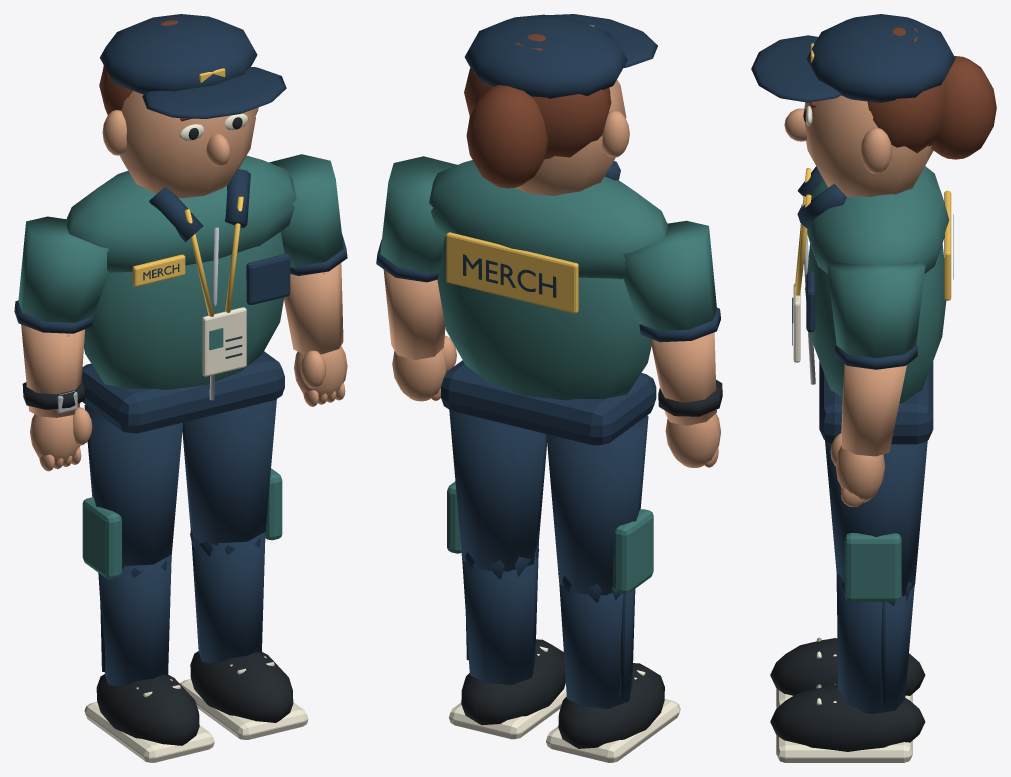
File: store-staff.glb
3 views of the same model, side by side, from view 1: azimuth 30°, elevation 25°; view 2: azimuth 150°, elevation 25°; view 3: azimuth 270°, elevation 25° (orthographic). The views are drawn at different scales.
Visible parts, largest first — view 1: Spine_uniform teal, Head_navy cotton, Spine_navy cotton, RightLeg_navy cotton, LeftLeg_navy cotton, Head_warm skin, RightKnee_navy cotton, LeftKnee_navy cotton, LeftArm_uniform teal, RightFoot_rubber and eyes, LeftFoot_rubber and eyes, RightArm_uniform teal (+14 smaller); view 2: Spine_uniform teal, RightLeg_navy cotton, LeftLeg_navy cotton, Head_navy cotton, Head_auburn hair, Spine_navy cotton, RightKnee_navy cotton, LeftArm_uniform teal, LeftKnee_navy cotton, Spine_ochre identity, RightArm_uniform teal, LeftFoot_rubber and eyes (+13 smaller); view 3: Spine_uniform teal, Head_navy cotton, Head_warm skin, RightArm_uniform teal, Head_auburn hair, RightKnee_navy cotton, RightLeg_navy cotton, RightFoot_rubber and eyes, Spine_navy cotton, RightElbow_warm skin, RightLeg_uniform teal, LeftFoot_rubber and eyes (+7 smaller).
Boxes of the visible parts, x1=… form: Spine_uniform teal: x1=65, y1=155, x2=296, y2=389; Head_navy cotton: x1=100, y1=14, x2=286, y2=118; Spine_navy cotton: x1=81, y1=169, x2=290, y2=433; RightLeg_navy cotton: x1=182, y1=399, x2=276, y2=547; LeftLeg_navy cotton: x1=84, y1=404, x2=182, y2=568; Head_warm skin: x1=102, y1=90, x2=258, y2=198; RightKnee_navy cotton: x1=190, y1=528, x2=265, y2=663; LeftKnee_navy cotton: x1=98, y1=554, x2=171, y2=686; LeftArm_uniform teal: x1=18, y1=216, x2=108, y2=322; RightFoot_rubber and eyes: x1=190, y1=651, x2=293, y2=722; LeftFoot_rubber and eyes: x1=96, y1=674, x2=199, y2=745; RightArm_uniform teal: x1=269, y1=154, x2=343, y2=268; Spine_uniform teal: x1=429, y1=160, x2=668, y2=400; RightLeg_navy cotton: x1=449, y1=410, x2=546, y2=571; LeftLeg_navy cotton: x1=546, y1=415, x2=648, y2=595; Head_navy cotton: x1=464, y1=14, x2=657, y2=98; Head_auburn hair: x1=464, y1=34, x2=611, y2=188; Spine_navy cotton: x1=441, y1=161, x2=656, y2=445; RightKnee_navy cotton: x1=462, y1=541, x2=539, y2=685; LeftArm_uniform teal: x1=623, y1=220, x2=716, y2=330; LeftKnee_navy cotton: x1=558, y1=573, x2=635, y2=708; Spine_ochre identity: x1=446, y1=222, x2=667, y2=313; RightArm_uniform teal: x1=380, y1=156, x2=457, y2=274; LeftFoot_rubber and eyes: x1=558, y1=663, x2=664, y2=748; Spine_uniform teal: x1=792, y1=166, x2=949, y2=403; Head_navy cotton: x1=751, y1=14, x2=955, y2=102; Head_warm skin: x1=784, y1=95, x2=933, y2=196; RightArm_uniform teal: x1=827, y1=261, x2=925, y2=357; Head_auburn hair: x1=810, y1=27, x2=996, y2=159; RightKnee_navy cotton: x1=836, y1=573, x2=914, y2=714; RightLeg_navy cotton: x1=825, y1=441, x2=927, y2=596; RightFoot_rubber and eyes: x1=770, y1=684, x2=925, y2=751; Spine_navy cotton: x1=792, y1=166, x2=953, y2=444; RightElbow_warm skin: x1=841, y1=364, x2=906, y2=456; RightLeg_uniform teal: x1=844, y1=533, x2=901, y2=601; LeftFoot_rubber and eyes: x1=770, y1=638, x2=925, y2=695.
Bounding box in the file's own units: 1.21 × 2.44 × 0.775.
